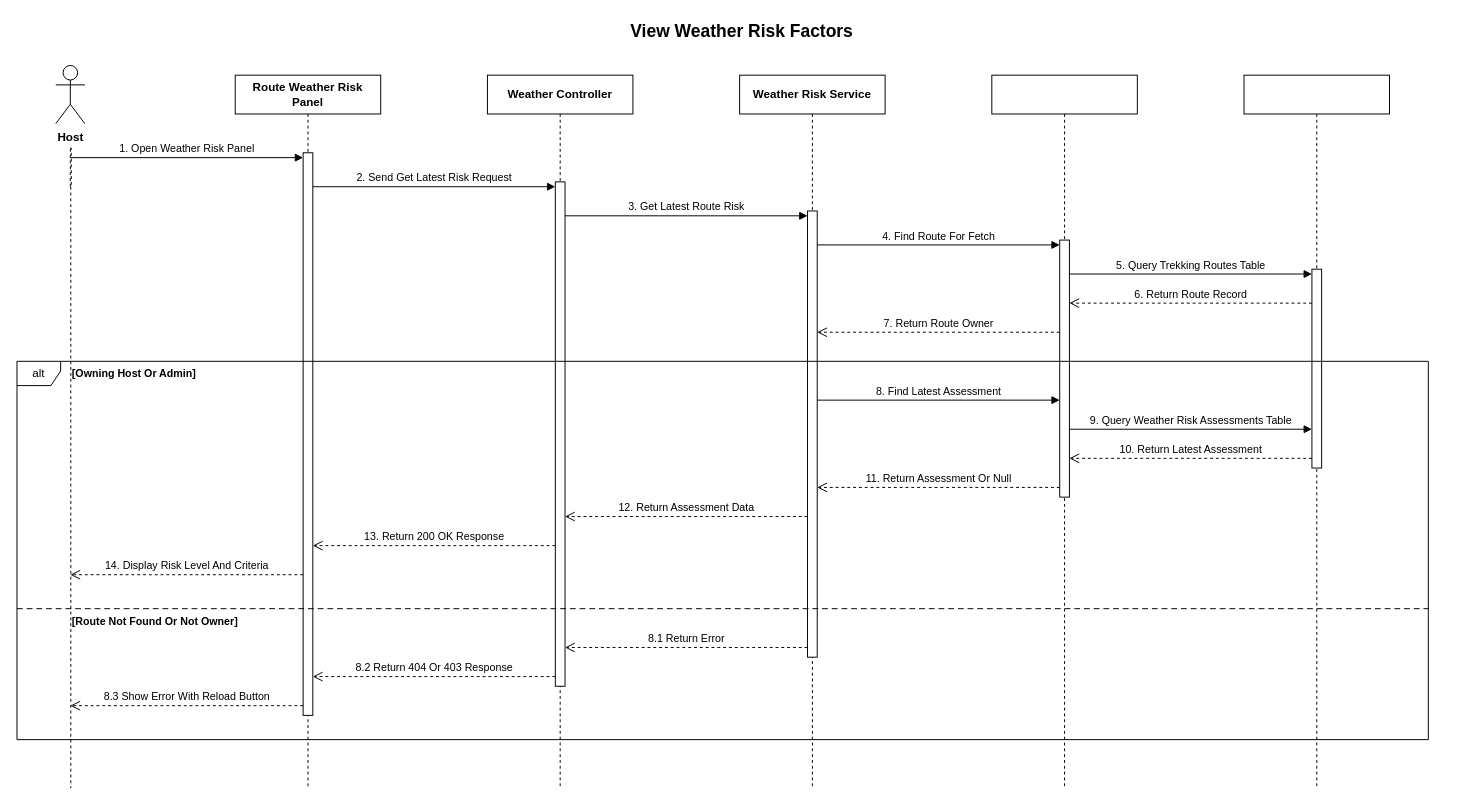
The diagram is 1460 pixels wide and 805 high, and some of its shapes have lost their labels. The shapes that lost their labels are listed below. From the top down, each one's box as (x1, y1, x2, y2) in pixels, then its label:
(991, 74, 1137, 788): Weather Risk Model
(1243, 74, 1390, 788): PostgreSQL Database
